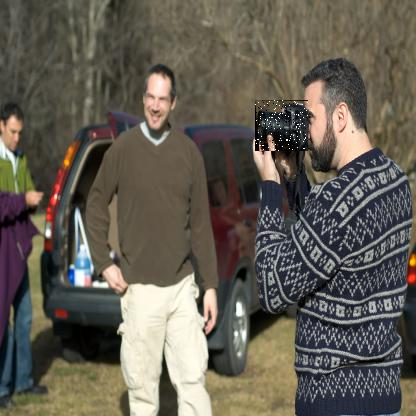Camera: (256, 101, 310, 153)
